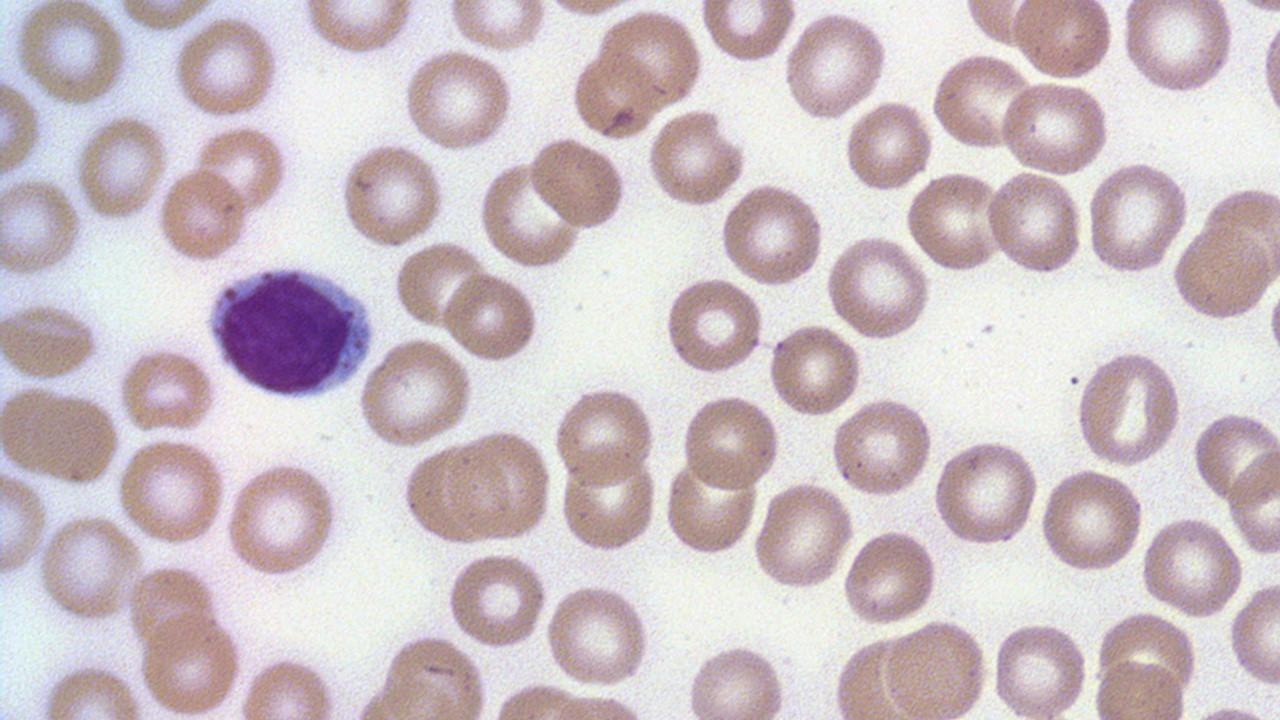RBC: (224, 460, 340, 578), (1074, 346, 1182, 468), (360, 335, 474, 450), (0, 382, 122, 486), (443, 429, 554, 542), (1085, 160, 1193, 276), (930, 436, 1041, 548), (782, 8, 890, 123), (12, 2, 128, 108), (1037, 465, 1145, 576), (402, 47, 514, 154), (119, 436, 225, 548), (542, 582, 654, 688), (478, 157, 582, 271), (338, 141, 446, 250), (824, 233, 932, 342), (718, 180, 826, 289), (752, 480, 856, 593), (38, 512, 140, 624), (594, 6, 704, 109), (998, 78, 1111, 178), (880, 616, 990, 718), (173, 16, 280, 120), (136, 614, 245, 716), (1117, 2, 1235, 96), (552, 384, 658, 488), (1140, 512, 1244, 618), (1167, 222, 1277, 322), (398, 442, 503, 546), (904, 169, 1008, 274), (829, 396, 934, 500), (643, 107, 748, 210), (930, 50, 1033, 154), (988, 616, 1093, 718), (661, 275, 766, 377), (986, 169, 1084, 278), (1088, 622, 1196, 720), (679, 392, 783, 492), (446, 551, 548, 651), (664, 452, 760, 557), (840, 527, 940, 627), (526, 135, 630, 231), (557, 454, 656, 554), (77, 114, 167, 224), (765, 321, 864, 418), (442, 270, 540, 364), (156, 165, 248, 264), (842, 97, 933, 196), (196, 124, 289, 218), (391, 240, 486, 332), (119, 346, 216, 435), (0, 175, 82, 280), (1009, 1, 1115, 81), (568, 51, 660, 142), (684, 638, 788, 718), (0, 301, 100, 380), (237, 653, 338, 718), (302, 1, 418, 57), (698, 1, 796, 66), (1226, 576, 1280, 690), (1225, 446, 1279, 558), (0, 467, 50, 582), (444, 1, 549, 54), (0, 73, 43, 182), (1258, 10, 1280, 139)
WBC: (205, 261, 381, 403)
